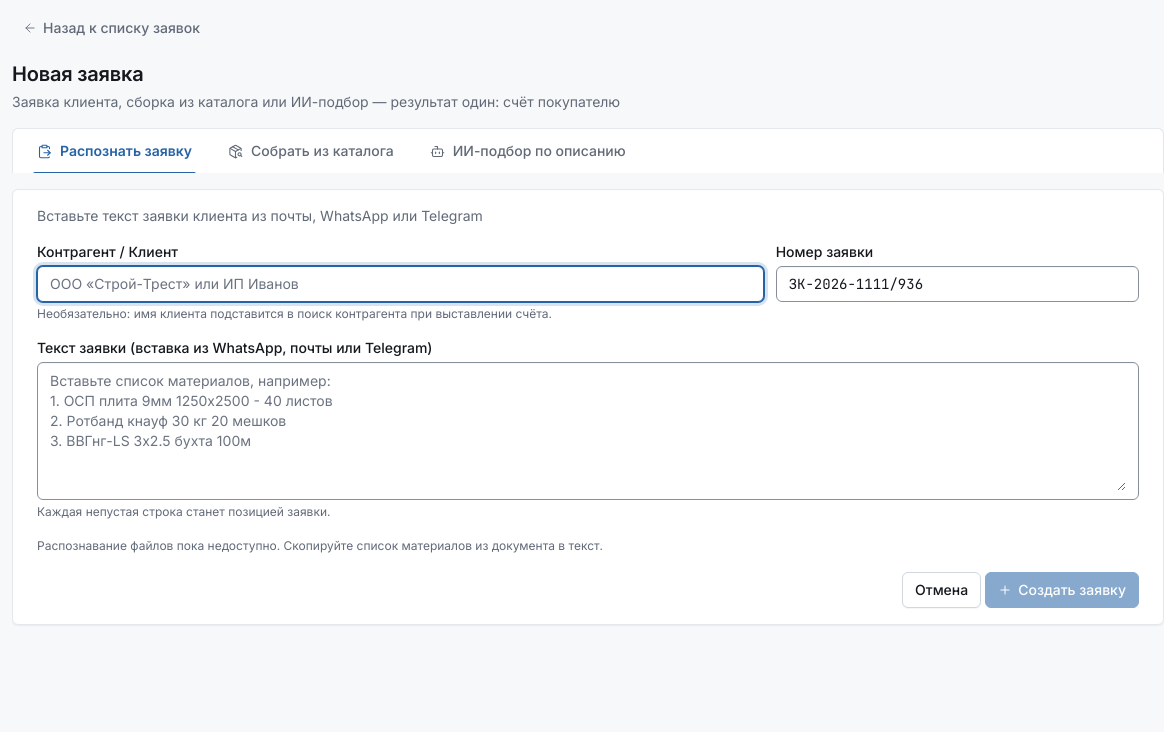
Страница входа: создание документа › создаёт заявку по одному тексту: контрагент не обязателен
Check: the button "Создать заявку" is disabled, box [985,572,1139,608]
Step 1. Replace the text in the text box labelled "Текст заявки (вставка из WhatsApp, почты или Telegram)" with "Ротбанд 30 кг" → coordinates (588, 431), box [50,371,1126,491]
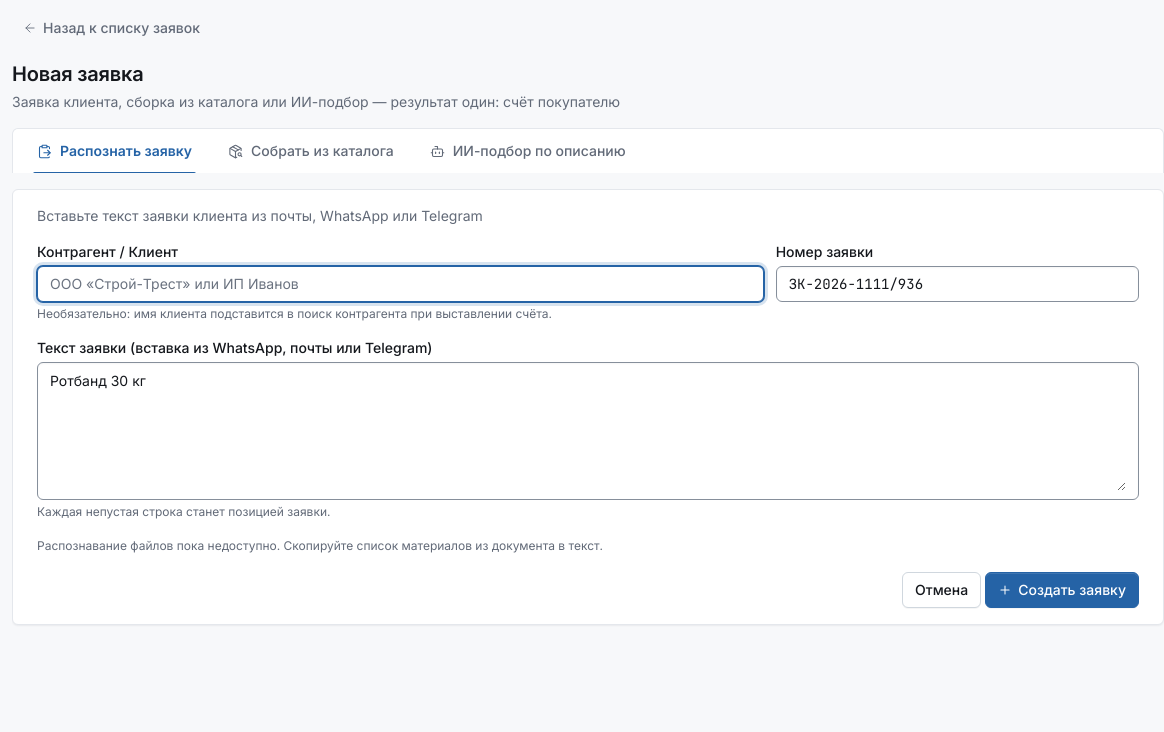
Check: the field labelled "Контрагент / Клиент" is empty, box [50,274,751,294]
Check: the button "Создать заявку" is enabled, box [985,572,1139,608]
